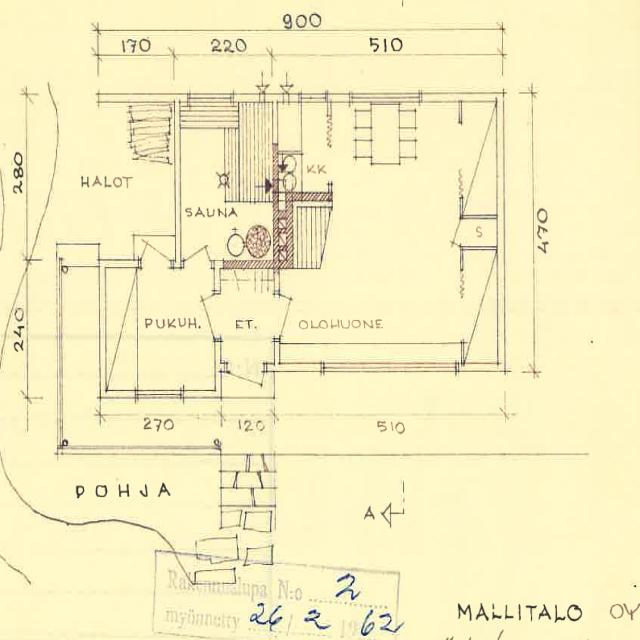door: (226, 362, 265, 422), (179, 294, 220, 339), (273, 295, 312, 338), (141, 220, 171, 268), (183, 226, 210, 268), (441, 219, 464, 244)
